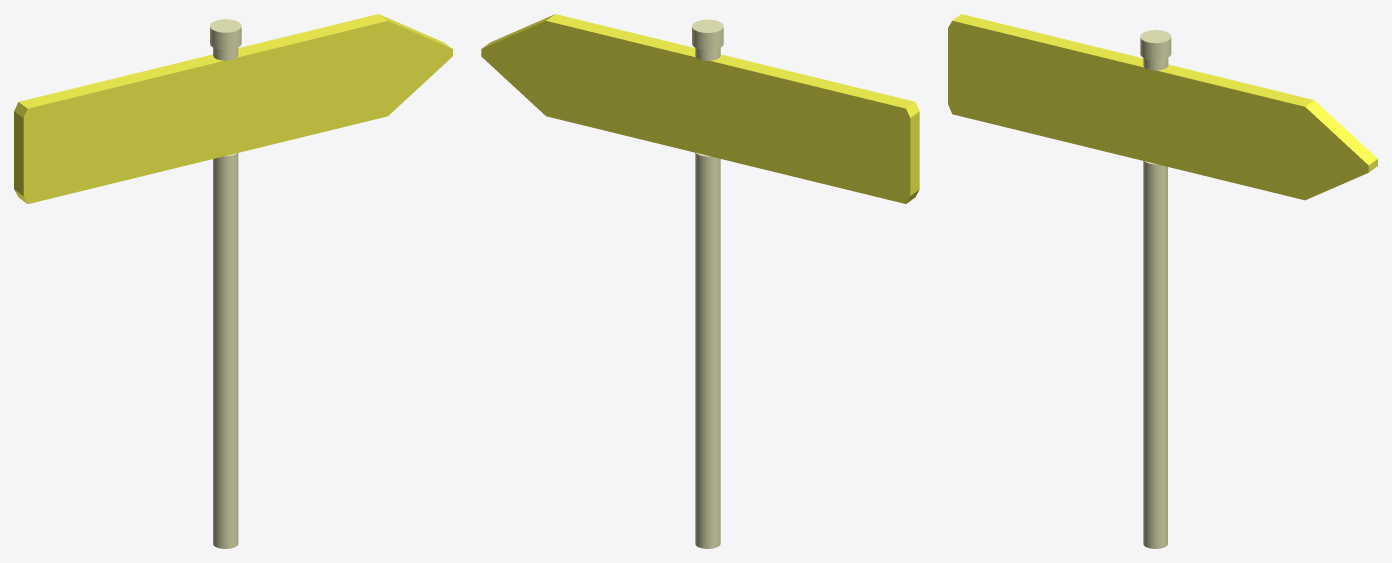
File: indicater2.glb
The picture shows the model from 3 angles, left to right: view 1: azimuth 30°, elevation 25°; view 2: azimuth 150°, elevation 25°; view 3: azimuth 330°, elevation 25°; orthographic projection. The views are drawn at different scales.
Visible parts, largest first — view 1: Cylinder; view 2: Cylinder; view 3: Cylinder.
Part boxes in pixels (box(x1,y1,x2,y2)): Cylinder: box(14, 14, 452, 548); Cylinder: box(481, 14, 919, 548); Cylinder: box(948, 14, 1377, 548).
Size of the model in its own units: 9.41 by 10.84 by 0.602.
